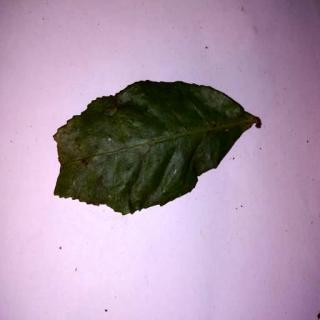Bird Eye Spot: (53, 80, 262, 217)
